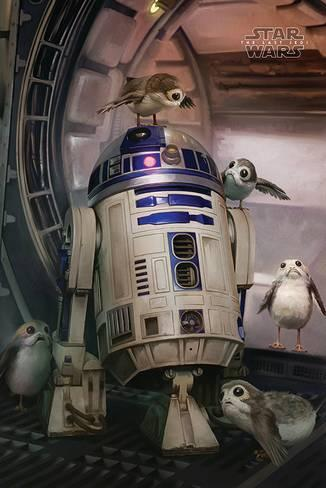r2d2: (55, 126, 237, 445)
